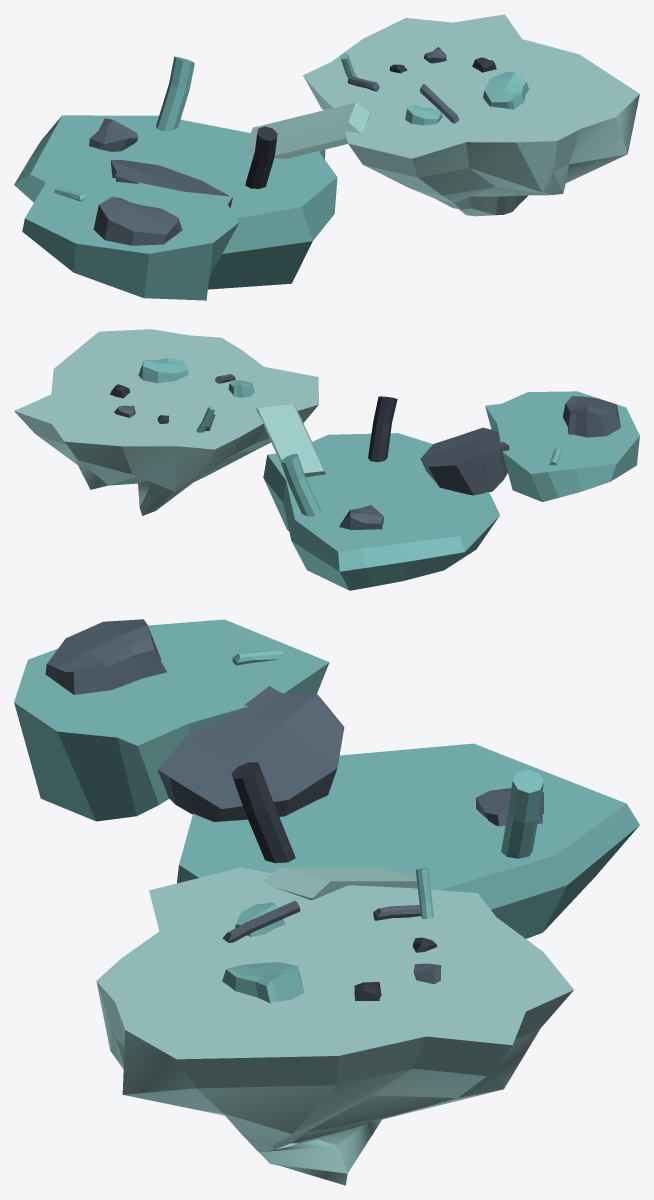
Rendered from ground_level.glb.
3 views of the same model, one above another, from view 1: azimuth 30°, elevation 25°; view 2: azimuth 150°, elevation 25°; view 3: azimuth 270°, elevation 25° (orthographic). The views are drawn at different scales.
Visible parts, largest first — view 1: Cylinder; view 2: Cylinder; view 3: Cylinder.
Boxes of the visible parts, box(x1,y1,x2,y2) form: Cylinder: box(14, 14, 639, 300); Cylinder: box(14, 329, 639, 590); Cylinder: box(14, 619, 639, 1185).
Bounding box in the file's own units: 81.43 × 22.65 × 50.58.
1 material, 1 textured.
